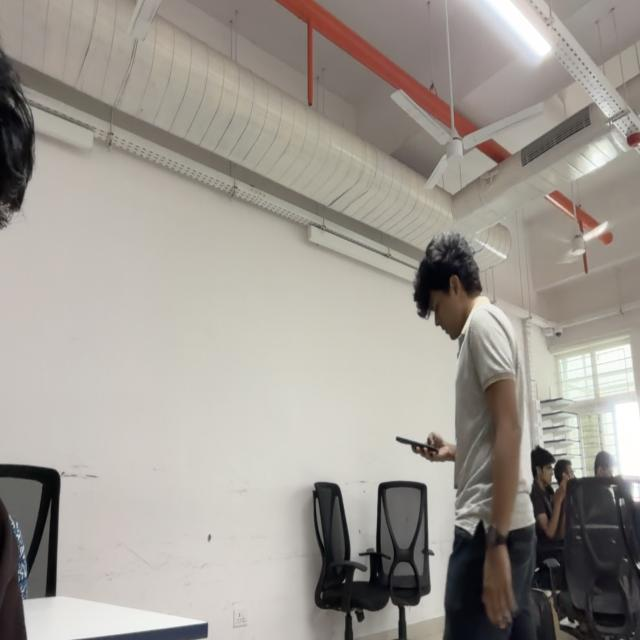kshitij: (414, 233, 488, 342)
